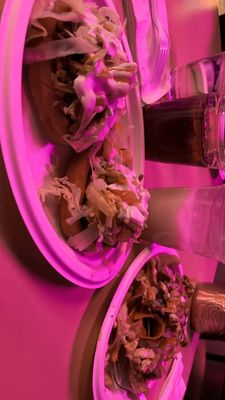soup: (133, 0, 173, 104)
